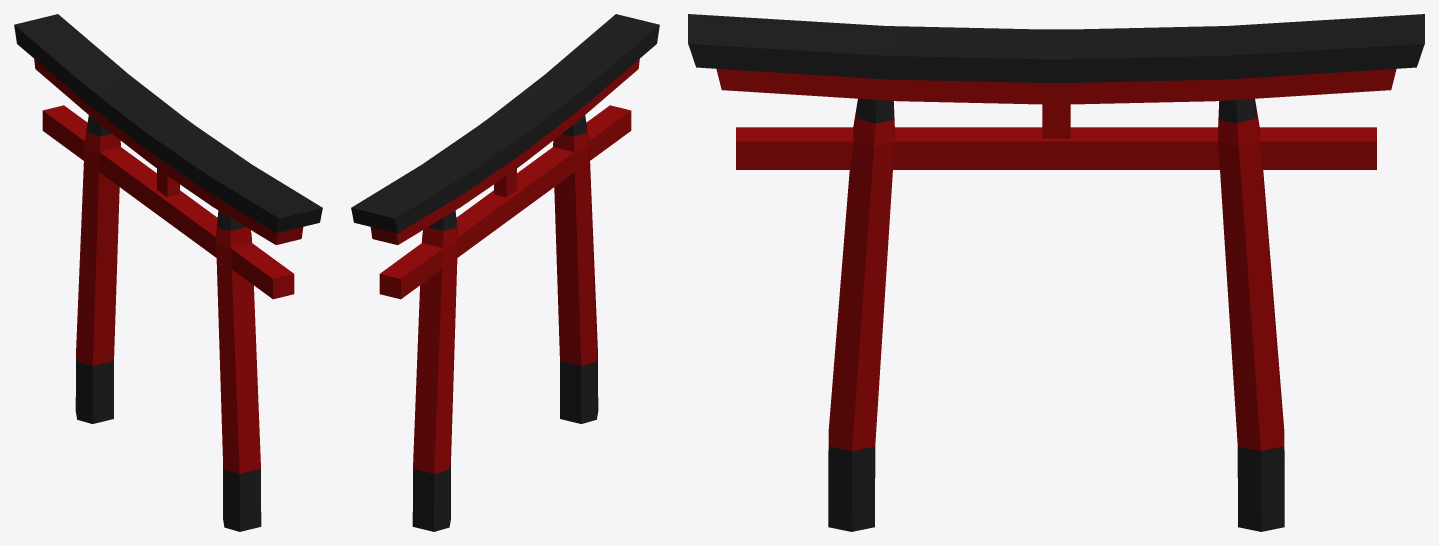
The model's file is Shrine_Gate_2.fbx.
3 renders of one model, left to right at view 1: azimuth 30°, elevation 25°; view 2: azimuth 150°, elevation 25°; view 3: azimuth 270°, elevation 25°, orthographic. The views are drawn at different scales.
Parts seen in each view (by area): view 1: Shire_Gate_2; view 2: Shire_Gate_2; view 3: Shire_Gate_2.
Part boxes in pixels (left/top/right/bottom): Shire_Gate_2: left=14, top=14, right=322, bottom=531; Shire_Gate_2: left=351, top=14, right=659, bottom=531; Shire_Gate_2: left=688, top=14, right=1424, bottom=531.
Size of the model in its own units: 32.05 by 246 by 334.
